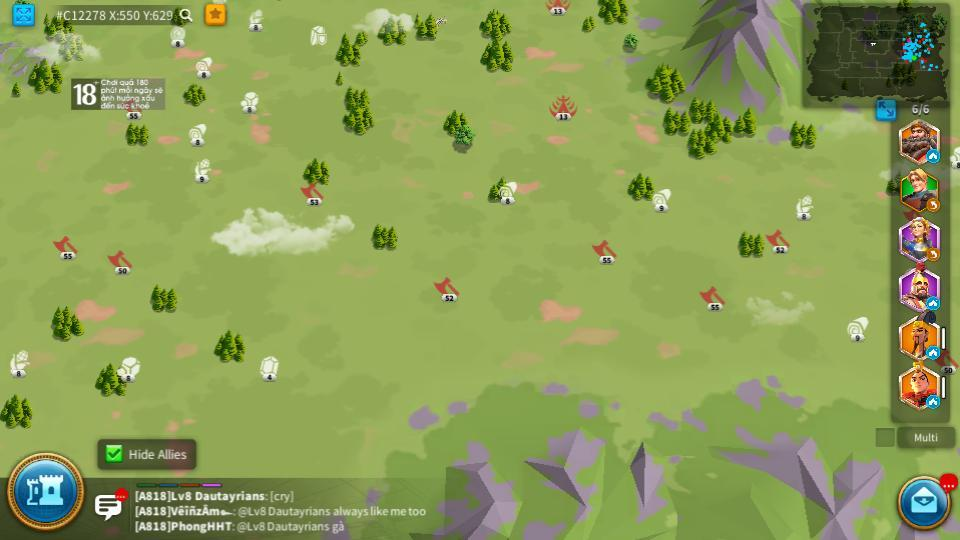gem-z-out: (258, 356, 281, 379)
march_idle: (926, 396, 941, 407), (926, 151, 940, 162), (925, 297, 938, 307), (927, 347, 939, 357)
march_returning: (926, 248, 941, 261), (927, 201, 941, 212)
